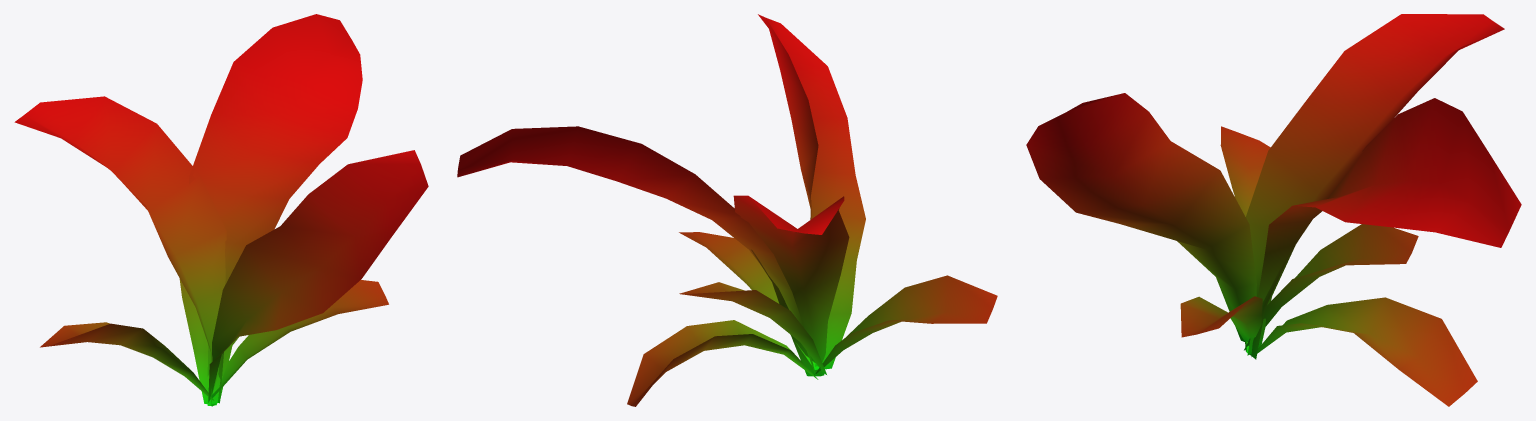
The model's file is Bog Marshcress_LOD1_Var3_theqfivr.fbx.
3 views of the same model, side by side, from view 1: azimuth 30°, elevation 25°; view 2: azimuth 150°, elevation 25°; view 3: azimuth 270°, elevation 25° (orthographic). The views are drawn at different scales.
Parts seen in each view (by area): view 1: merge1; view 2: merge1; view 3: merge1.
Part boxes in pixels (left/top/right/bottom): merge1: left=14, top=14, right=428, bottom=406; merge1: left=457, top=14, right=997, bottom=406; merge1: left=1026, top=14, right=1521, bottom=406.
Bounding box in the file's own units: 16.58 × 10.43 × 14.14.
